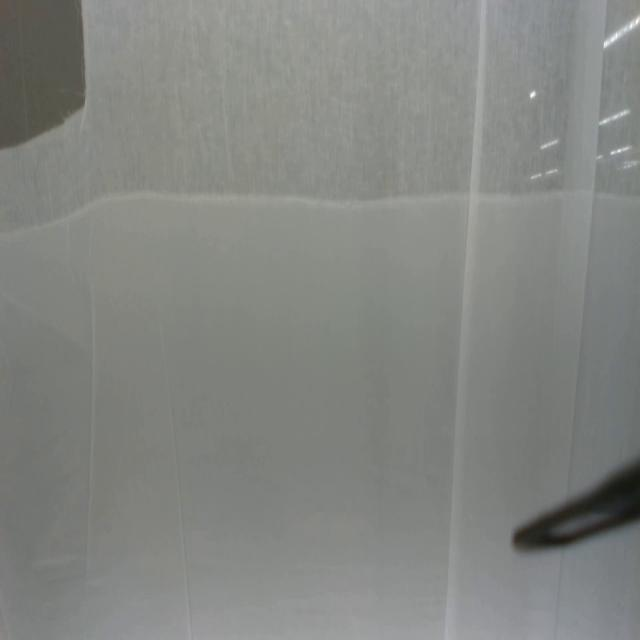hole: (0, 0, 88, 154)
